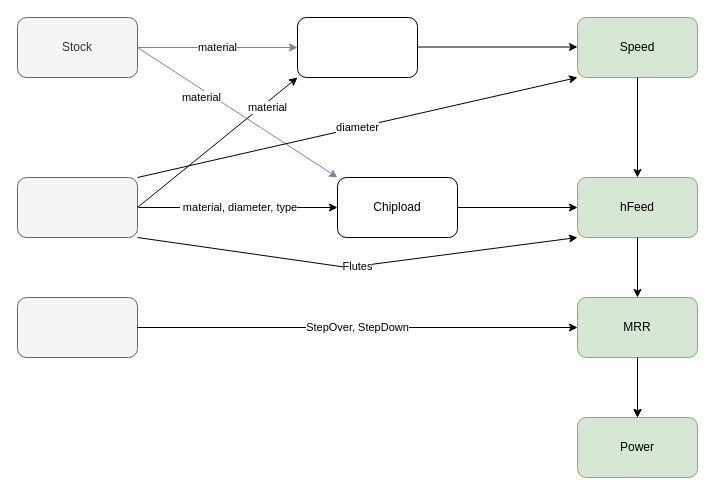
This 715x495 diagram has some shape labels left out. The shapes that lost their labels are listed below. From the top down, each one's centre as x and y in pixels, then its label:
[357,47]: Surface speed
[77,207]: Tool
[77,327]: Engagement
